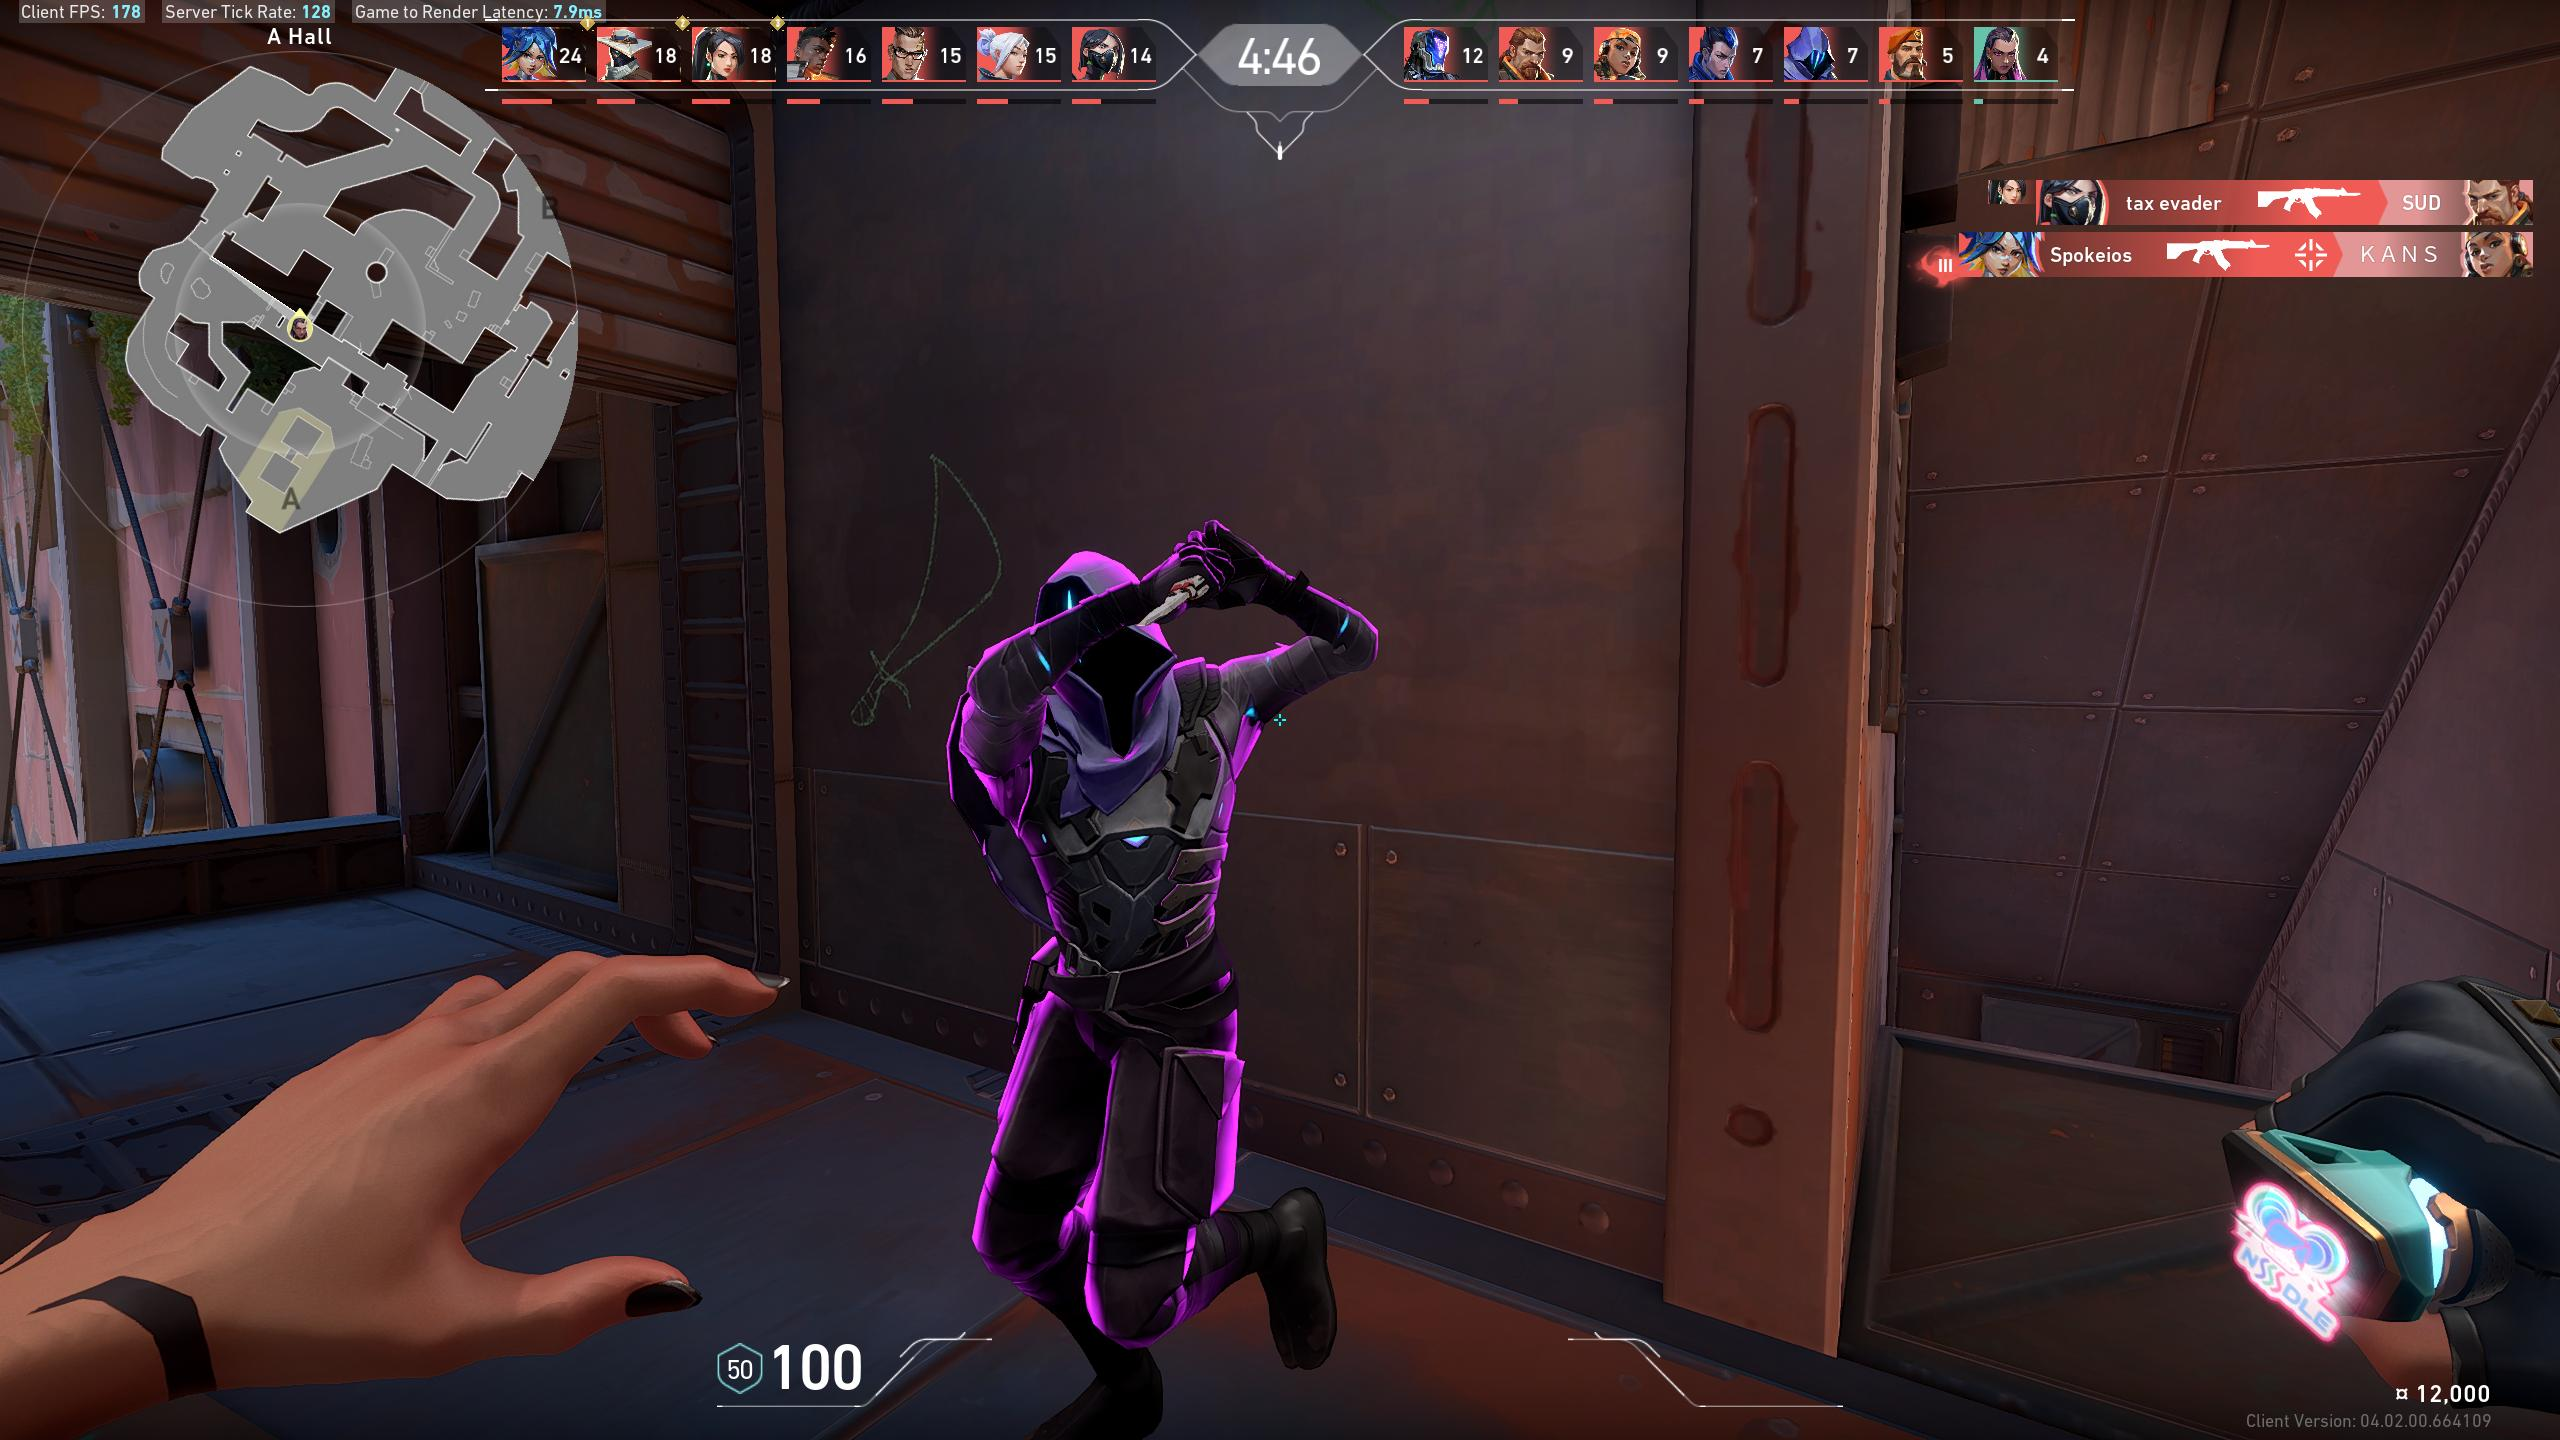enemyBody: (1060, 733, 1196, 983)
enemyHead: (1053, 593, 1138, 673)
